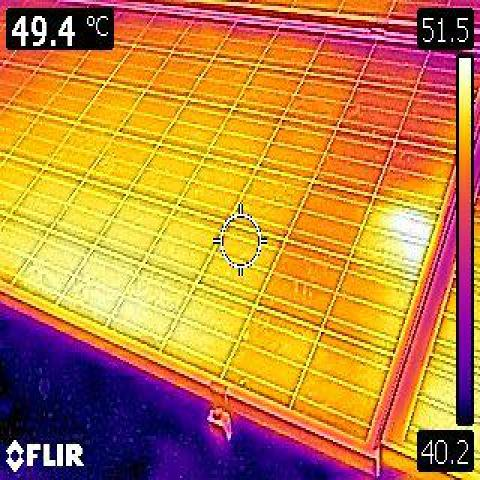fault: (390, 209, 425, 263)
